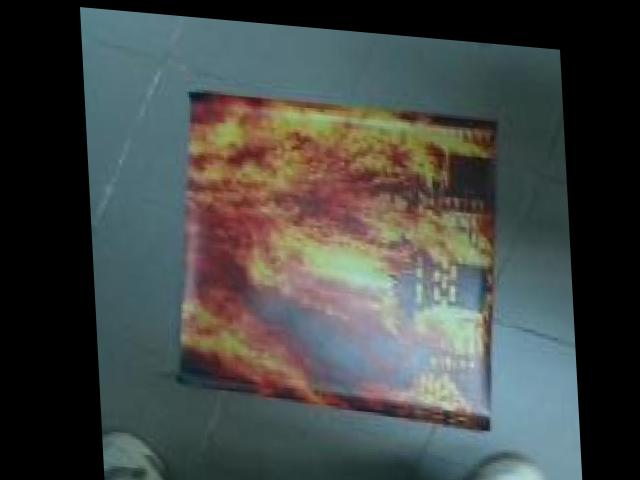fire-poster: (158, 76, 511, 426)
